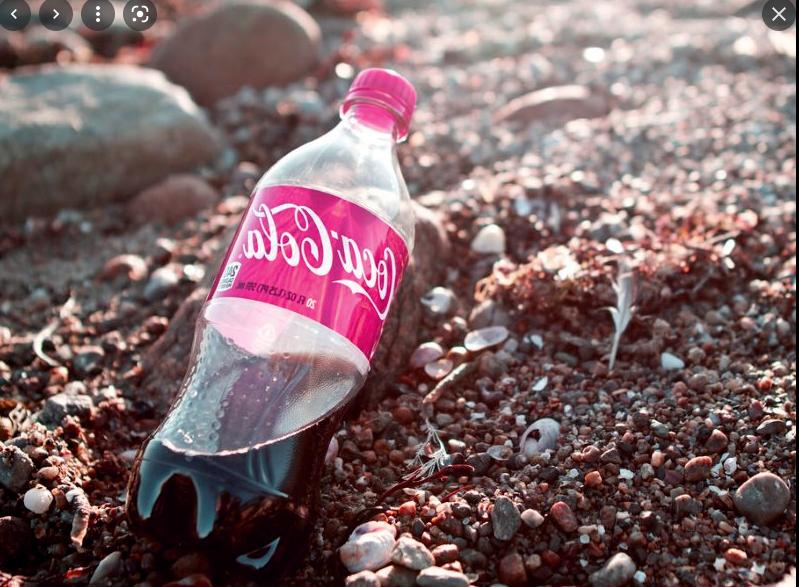Plastic: (116, 62, 429, 587)
